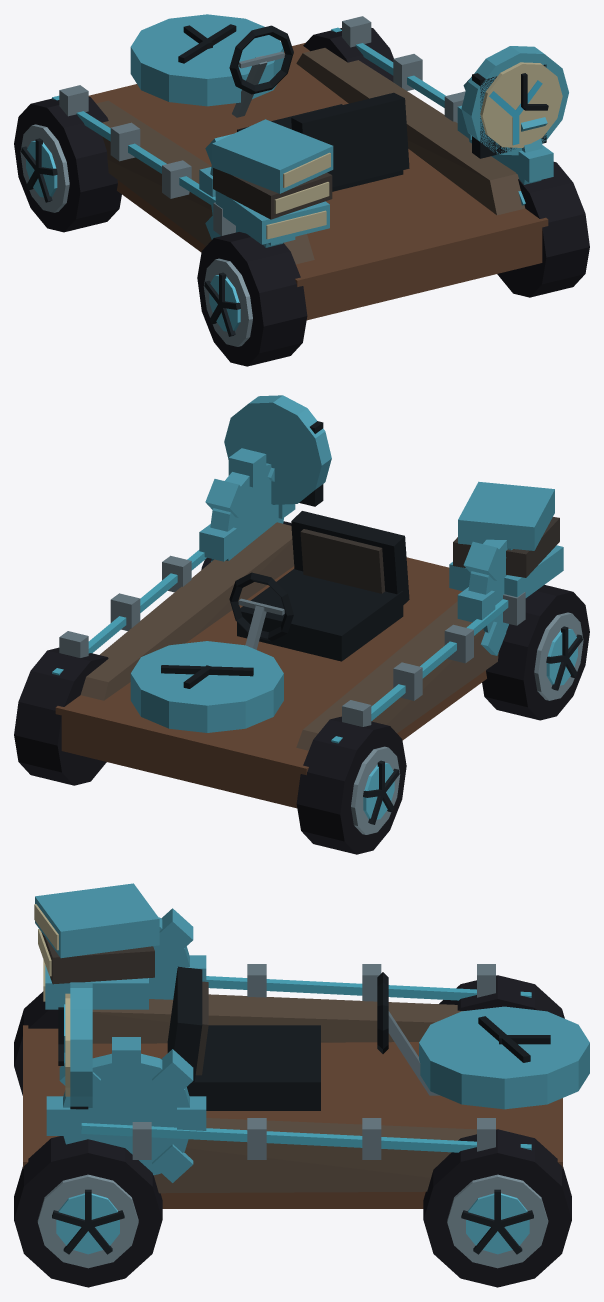
The model's file is kart.glb.
The picture shows the model from 3 angles, top to bottom: view 1: azimuth 30°, elevation 25°; view 2: azimuth 150°, elevation 25°; view 3: azimuth 270°, elevation 25°; orthographic projection. The views are drawn at different scales.
Visible parts, largest first — view 1: identity-clockwork-clockwork-brass-escapement, identity-clockwork-motif-books, wheel-rear-left, wheel-front-left, identity-clockwork-driver-cockpit, identity-clockwork-motif-flux-coils, identity-clockwork-motif-clock, wheel-rear-right, wheel-front-right; view 2: identity-clockwork-clockwork-brass-escapement, identity-clockwork-driver-cockpit, wheel-front-left, wheel-rear-left, identity-clockwork-motif-books, identity-clockwork-motif-flux-coils, wheel-front-right, identity-clockwork-motif-clock; view 3: identity-clockwork-clockwork-brass-escapement, wheel-front-right, wheel-rear-right, identity-clockwork-driver-cockpit, identity-clockwork-motif-books, identity-clockwork-motif-flux-coils, identity-clockwork-motif-clock, wheel-front-left, wheel-rear-left.
Part boxes in pixels (left/top/right/bottom): identity-clockwork-clockwork-brass-escapement: left=88, top=14, right=553, bottom=320; identity-clockwork-motif-books: left=212, top=119, right=333, bottom=244; wheel-rear-left: left=197, top=232, right=307, bottom=366; wheel-front-left: left=14, top=97, right=121, bottom=232; identity-clockwork-driver-cockpit: left=229, top=25, right=409, bottom=191; identity-clockwork-motif-flux-coils: left=52, top=16, right=546, bottom=235; identity-clockwork-motif-clock: left=461, top=46, right=568, bottom=155; wheel-rear-right: left=497, top=162, right=589, bottom=297; wheel-front-right: left=303, top=28, right=393, bottom=81; identity-clockwork-clockwork-brass-escapement: left=55, top=448, right=512, bottom=808; identity-clockwork-driver-cockpit: left=229, top=511, right=409, bottom=661; wheel-front-left: left=296, top=716, right=406, bottom=854; wheel-rear-left: left=482, top=585, right=589, bottom=720; identity-clockwork-motif-books: left=449, top=481, right=563, bottom=597; identity-clockwork-motif-flux-coils: left=52, top=421, right=525, bottom=743; wheel-front-right: left=14, top=647, right=108, bottom=785; identity-clockwork-motif-clock: left=224, top=395, right=331, bottom=504; identity-clockwork-clockwork-brass-escapement: left=23, top=908, right=589, bottom=1208; wheel-front-right: left=423, top=1129, right=571, bottom=1287; wheel-rear-right: left=14, top=1136, right=162, bottom=1287; identity-clockwork-driver-cockpit: left=167, top=966, right=439, bottom=1110; identity-clockwork-motif-books: left=34, top=883, right=159, bottom=1009; identity-clockwork-motif-flux-coils: left=64, top=964, right=531, bottom=1159; identity-clockwork-motif-clock: left=58, top=982, right=92, bottom=1107; wheel-front-left: left=439, top=975, right=564, bottom=1018; wheel-rear-left: left=14, top=991, right=58, bottom=1095.
Bounding box in the file's own units: 1.99 × 1.35 × 2.56.
